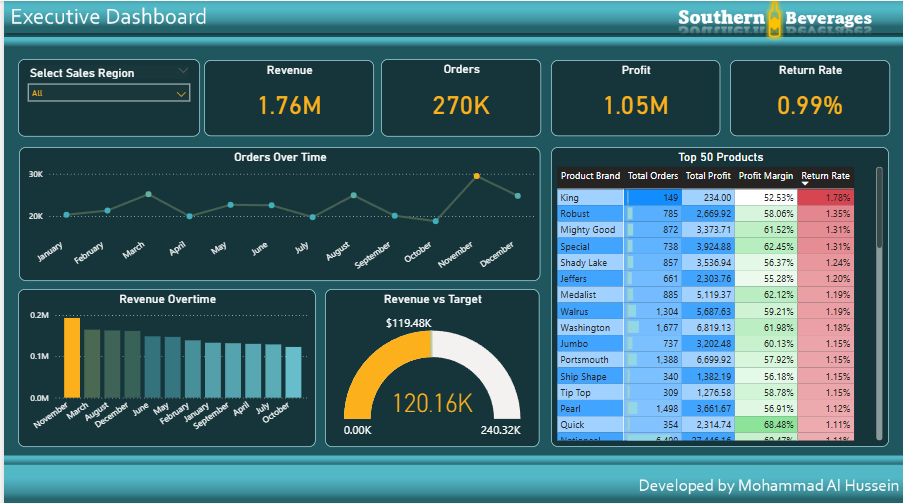

This screenshot's page, from the dashboard's own definition file:
{"tool":"powerbi","page":{"name":"Executive Dashboard","canvas":[1280,720],"ordinal":0},"visuals":[{"type":"pivotTable","title":"Top 50 Products","fields":{"Rows":["Products.product_brand"],"Values":["_Measures.Total Transactions","_Measures.Total Profit","_Measures.Profit Margin","_Measures.Return Rate"]},"box":[774.8,206.9,479.5,425.2],"z":0},{"type":"lineChart","title":"Orders Over Time","fields":{"Category":["Calendar.Start of Week.Variation.Date Hierarchy.Year","Calendar.Start of Week.Variation.Date Hierarchy.Quarter","Calendar.Start of Week.Variation.Date Hierarchy.Month","Calendar.Start of Week.Variation.Date Hierarchy.Day"],"Y":["_Measures.Total Transactions"]},"box":[21.4,206.9,739.2,189.8],"z":1000},{"type":"columnChart","title":"Revenue Overtime","fields":{"Y":["_Measures.Total Revenue"],"Category":["Calendar.Start of Week.Variation.Date Hierarchy.Year","Calendar.Start of Week.Variation.Date Hierarchy.Quarter","Calendar.Start of Week.Variation.Date Hierarchy.Month","Calendar.Start of Week.Variation.Date Hierarchy.Day"]},"box":[20,408.1,422.4,224],"z":2000},{"type":"gauge","title":"Revenue vs Target","fields":{"Y":["_Measures.Total Revenue"],"TargetValue":["_Measures.Revenue Target"]},"box":[455.2,408.1,303.9,224],"z":3000},{"type":"card","title":"Profit","fields":{"Values":["_Measures.Total Profit"]},"box":[774.8,84.2,239.7,108.5],"z":4000},{"type":"card","title":"Revenue","fields":{"Values":["_Measures.Total Revenue"]},"box":[284,84.2,241.2,108.5],"z":5000},{"type":"card","title":"Orders","fields":{"Values":["_Measures.Total Transactions"]},"box":[533.7,82.8,226.9,109.9],"z":6000},{"type":"card","title":"Return Rate","fields":{"Values":["_Measures.Return Rate"]},"box":[1028.9,84.2,226.9,108.5],"z":7000},{"type":"slicer","fields":{"Values":["Regions.sales_region"]},"box":[20,82.8,258.3,109.9],"z":8000}]}

Visuals, with their boxes in screenshot pixels (x1, y1, x2, y2), scaled from the page's 1280x720 canvas onto the 903x503 screenshot:
"Top 50 Products" pivotTable: 547, 145, 885, 442
"Orders Over Time" lineChart: 15, 145, 537, 277
"Revenue Overtime" columnChart: 14, 285, 312, 442
"Revenue vs Target" gauge: 321, 285, 536, 442
"Profit" card: 547, 59, 716, 135
"Revenue" card: 200, 59, 371, 135
"Orders" card: 377, 58, 537, 135
"Return Rate" card: 726, 59, 886, 135
slicer - Regions.sales_region: 14, 58, 196, 135
